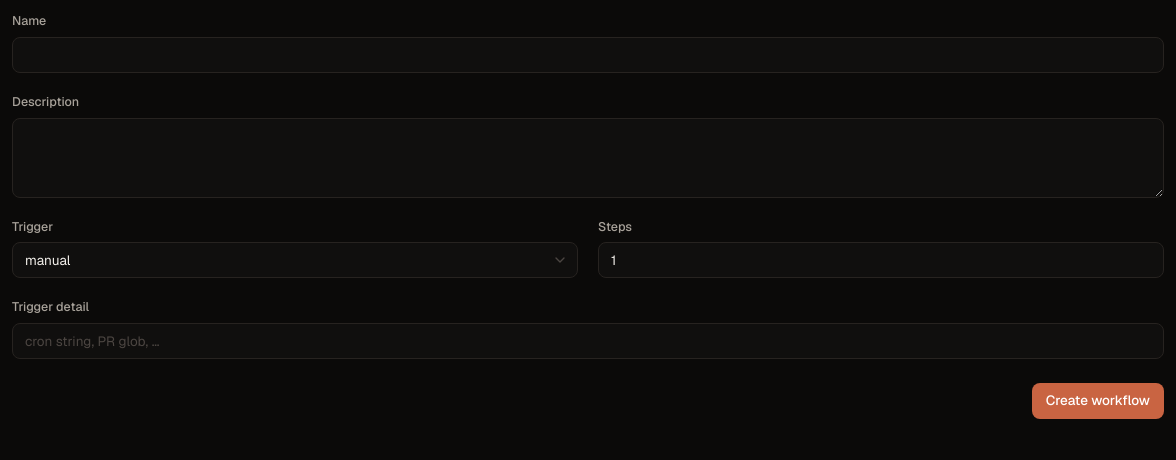
WorkflowForm › blocks submission and shows an error when a required field is empty
Type "Some pipeline." into the text box labelled "Description" at (588, 158), box [12, 118, 1164, 198]
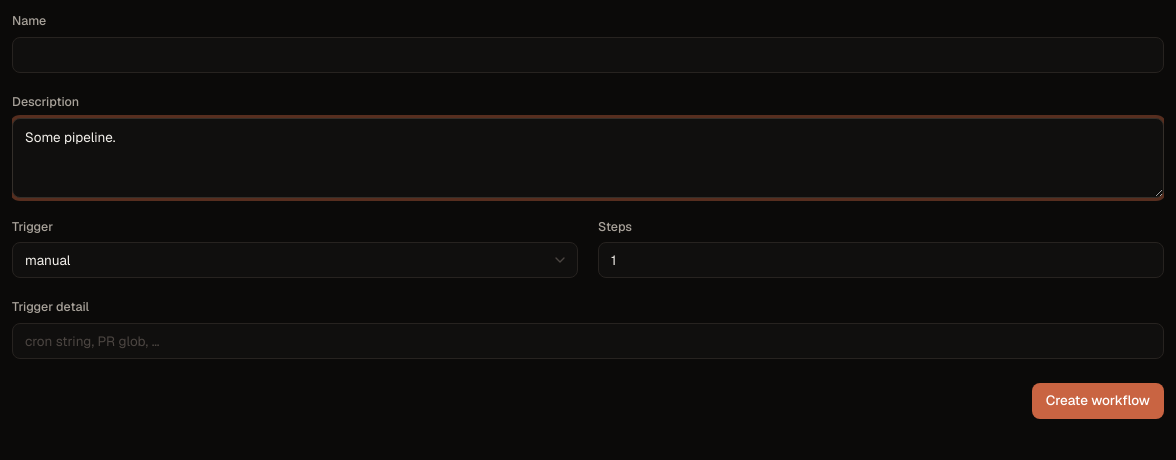
Click the button "Create workflow" at (1098, 401), box [1032, 383, 1164, 419]
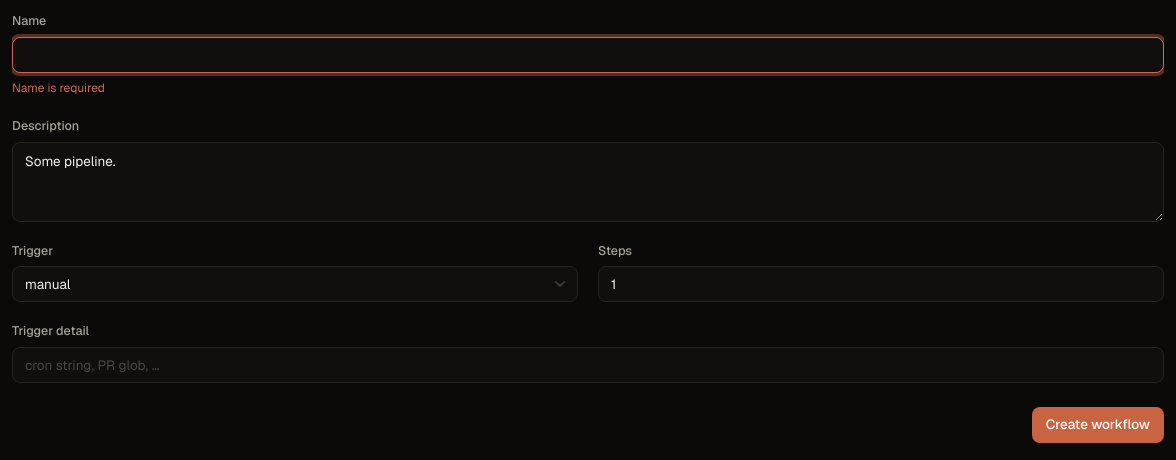
Check: the text "Name is required" is shown, box [12, 80, 105, 96]
